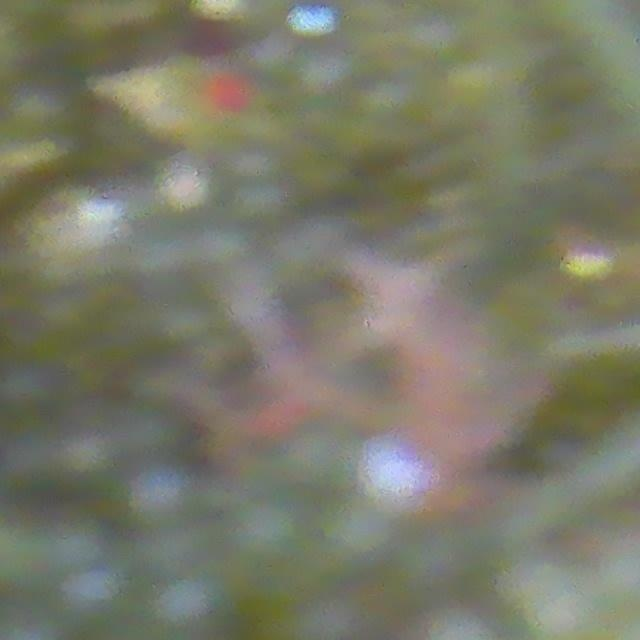SeaGrape: (519, 569, 605, 640), (323, 500, 396, 569), (157, 571, 226, 631)
